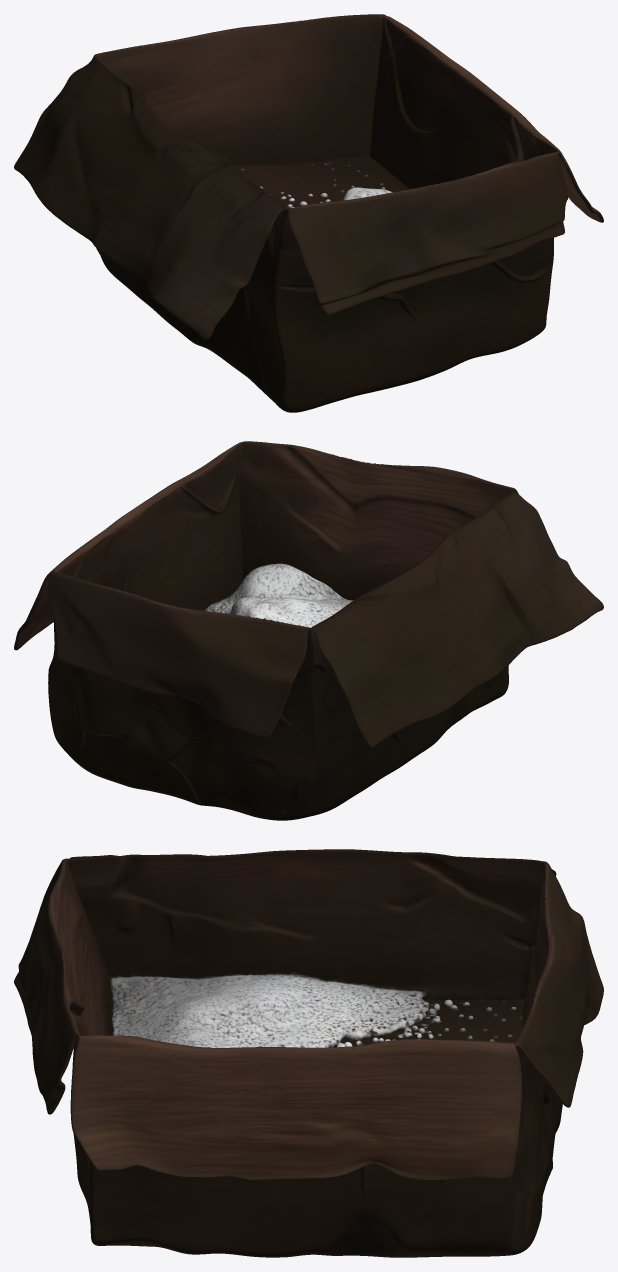
Rendered from SimpleLitterBox.fbx.
3 renders of one model, top to bottom at view 1: azimuth 30°, elevation 25°; view 2: azimuth 150°, elevation 25°; view 3: azimuth 270°, elevation 25°, orthographic. The views are drawn at different scales.
Visible parts, largest first — view 1: tripo_node_b8ac9f7f; view 2: tripo_node_b8ac9f7f; view 3: tripo_node_b8ac9f7f.
Part boxes in pixels (bbox=[...]): tripo_node_b8ac9f7f: bbox=[14, 14, 603, 412]; tripo_node_b8ac9f7f: bbox=[14, 441, 603, 820]; tripo_node_b8ac9f7f: bbox=[14, 849, 603, 1257].
Size of the model in its own units: 97.97 by 97.97 by 47.21.
